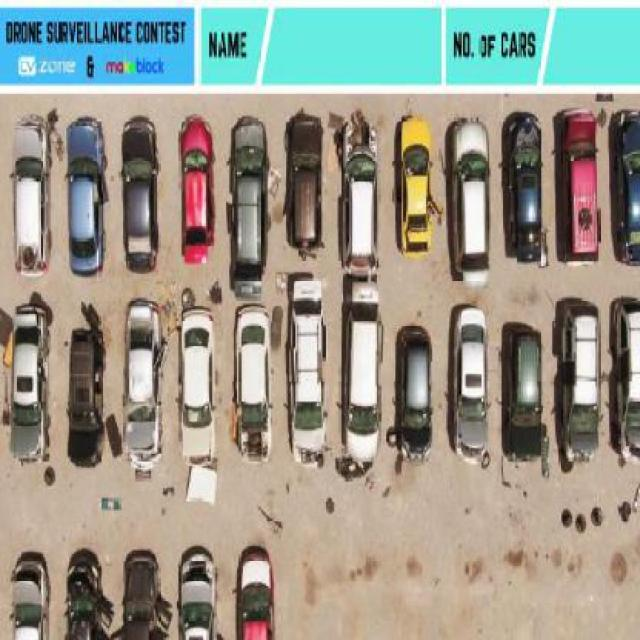bike: (231, 32, 240, 60)
car: (448, 115, 494, 286), (64, 112, 110, 274), (556, 300, 603, 456), (559, 109, 605, 264), (337, 118, 381, 278), (228, 119, 270, 280), (290, 268, 324, 465), (124, 293, 162, 467), (503, 109, 546, 260), (448, 305, 490, 457), (120, 112, 159, 272), (506, 319, 548, 463), (176, 112, 218, 255), (348, 279, 379, 472), (177, 306, 214, 466), (232, 306, 270, 461), (13, 120, 51, 272), (284, 112, 324, 255), (395, 114, 433, 260), (396, 323, 436, 459), (10, 302, 42, 465), (67, 325, 103, 463), (609, 298, 640, 457), (611, 106, 640, 271), (232, 541, 278, 640), (9, 549, 51, 640), (65, 546, 103, 640), (176, 549, 212, 640), (123, 546, 154, 640)
